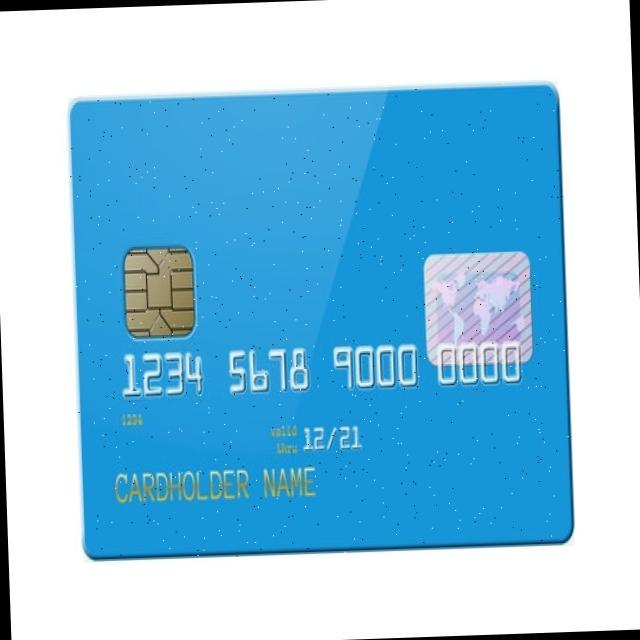payment_card: (69, 82, 574, 559)
